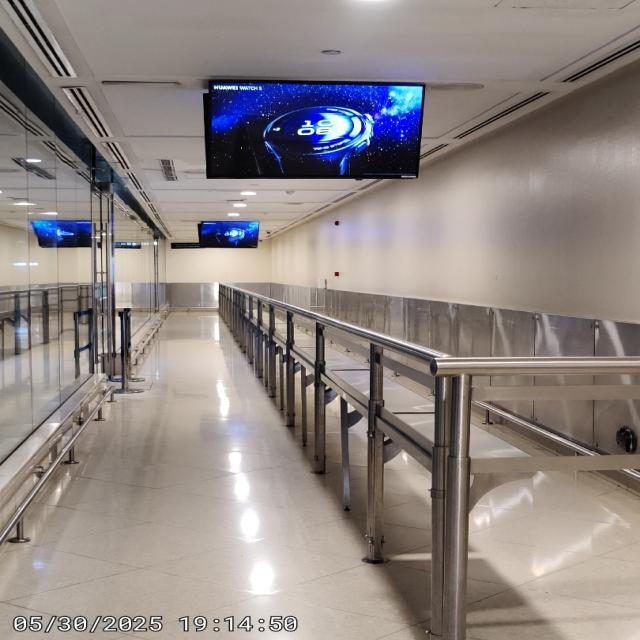digital-board: (212, 81, 425, 179)
